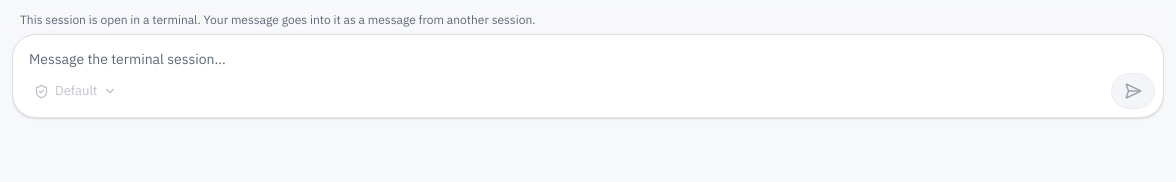
Scenario: T055 shows delivered new turn and keeps the draft only for a failure
Type "Hello terminal" into the text box named "Reply to session" at (588, 54), box left=13, top=35, right=1163, bottom=73
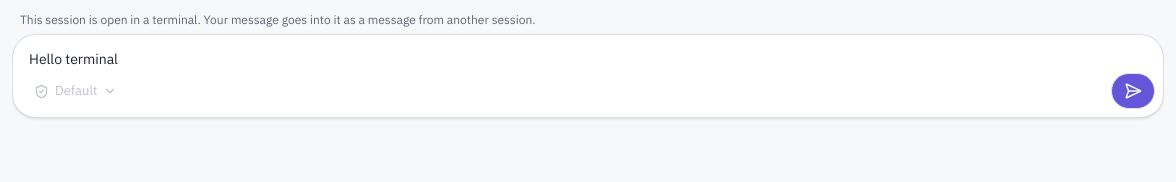
Click the button named "Send to the terminal session" at (1133, 91), box left=1111, top=73, right=1155, bottom=109
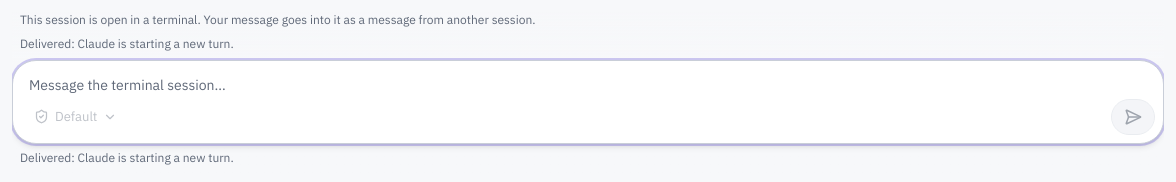
Check: the text box named "Reply to session" is empty, box left=13, top=60, right=1163, bottom=98
